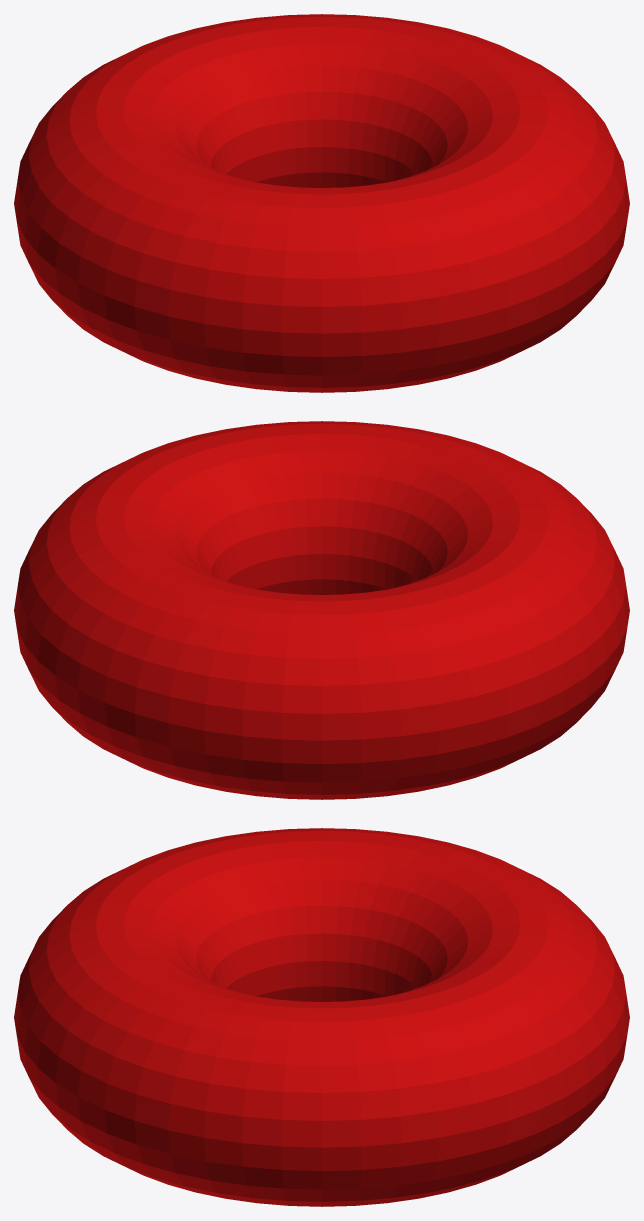
File: hole.obj
3 renders of one model, top to bottom at view 1: azimuth 30°, elevation 25°; view 2: azimuth 150°, elevation 25°; view 3: azimuth 270°, elevation 25°, orthographic.
Visible parts, largest first — view 1: Torus; view 2: Torus; view 3: Torus.
Boxes of the visible parts, <box> form: Torus: <box>14,14,629,392</box>; Torus: <box>14,421,629,799</box>; Torus: <box>14,828,629,1206</box>.
Size of the model in its own units: 1.5 by 0.4988 by 1.5.
